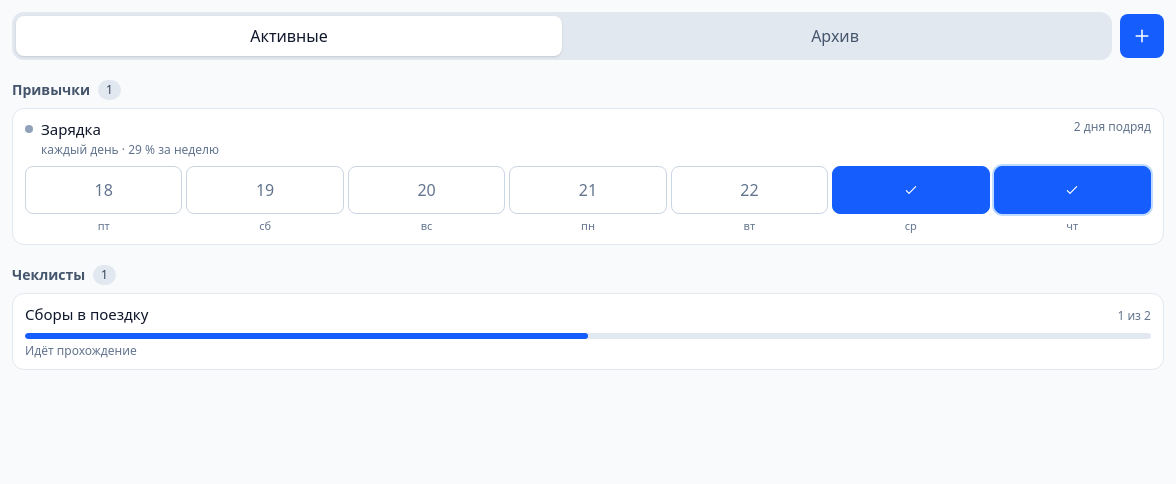
Test: вкладка «Привычки» › переключает набор на архив и запоминает выбор
Click the tab "Архив".
click(835, 36)  # box [562,16,1108,56]
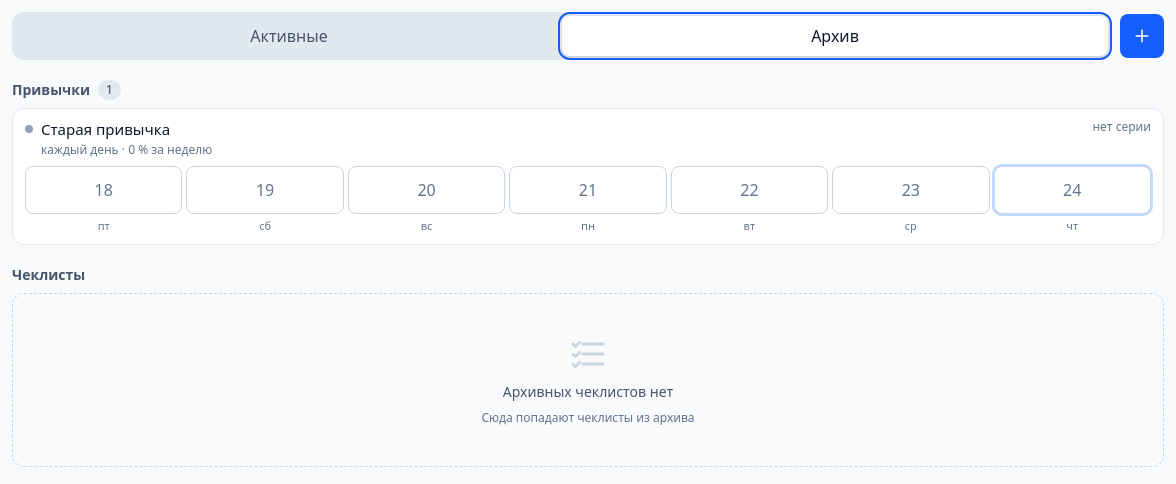
Expected: the text "Старая привычка" is shown, [41,119,170,139]
Expected: the button "Зарядка" is gone
